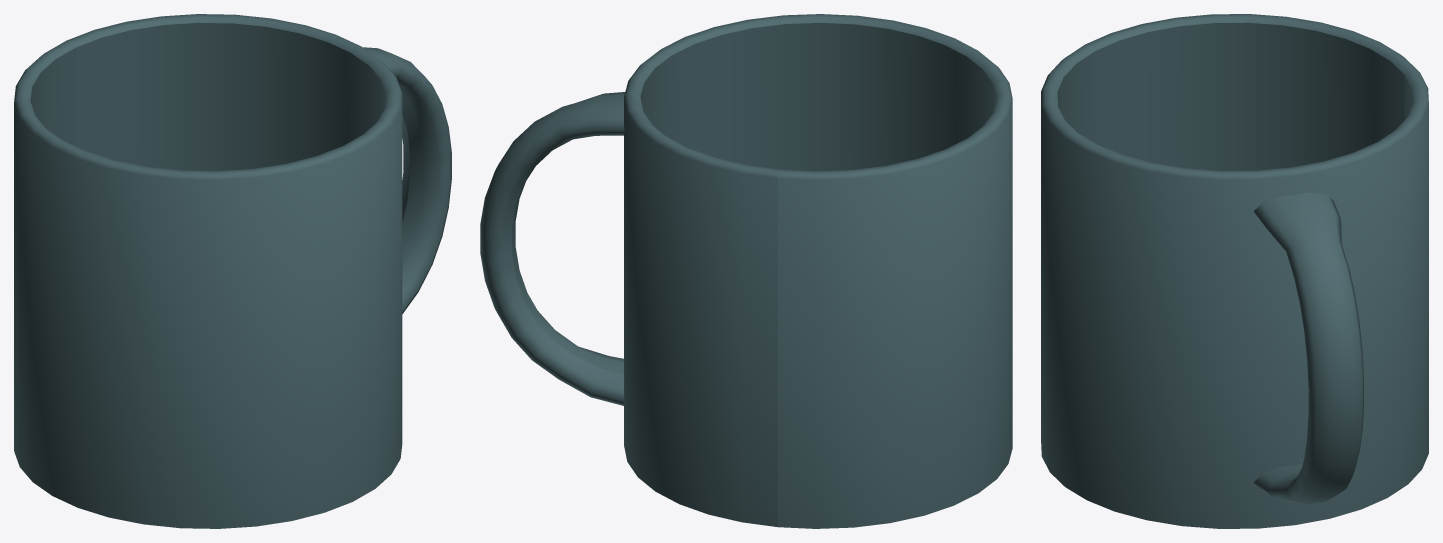
Rendered from mug.fbx.
3 views of the same model, side by side, from view 1: azimuth 30°, elevation 25°; view 2: azimuth 150°, elevation 25°; view 3: azimuth 270°, elevation 25° (orthographic).
Parts seen in each view (by area): view 1: Mug_Q; view 2: Mug_Q; view 3: Mug_Q.
Part boxes in pixels (x1,y1,x2,y2): Mug_Q: [14, 14, 451, 528]; Mug_Q: [480, 14, 1012, 528]; Mug_Q: [1041, 14, 1428, 528].
Bounding box in the file's own units: 166 × 123 × 123.
